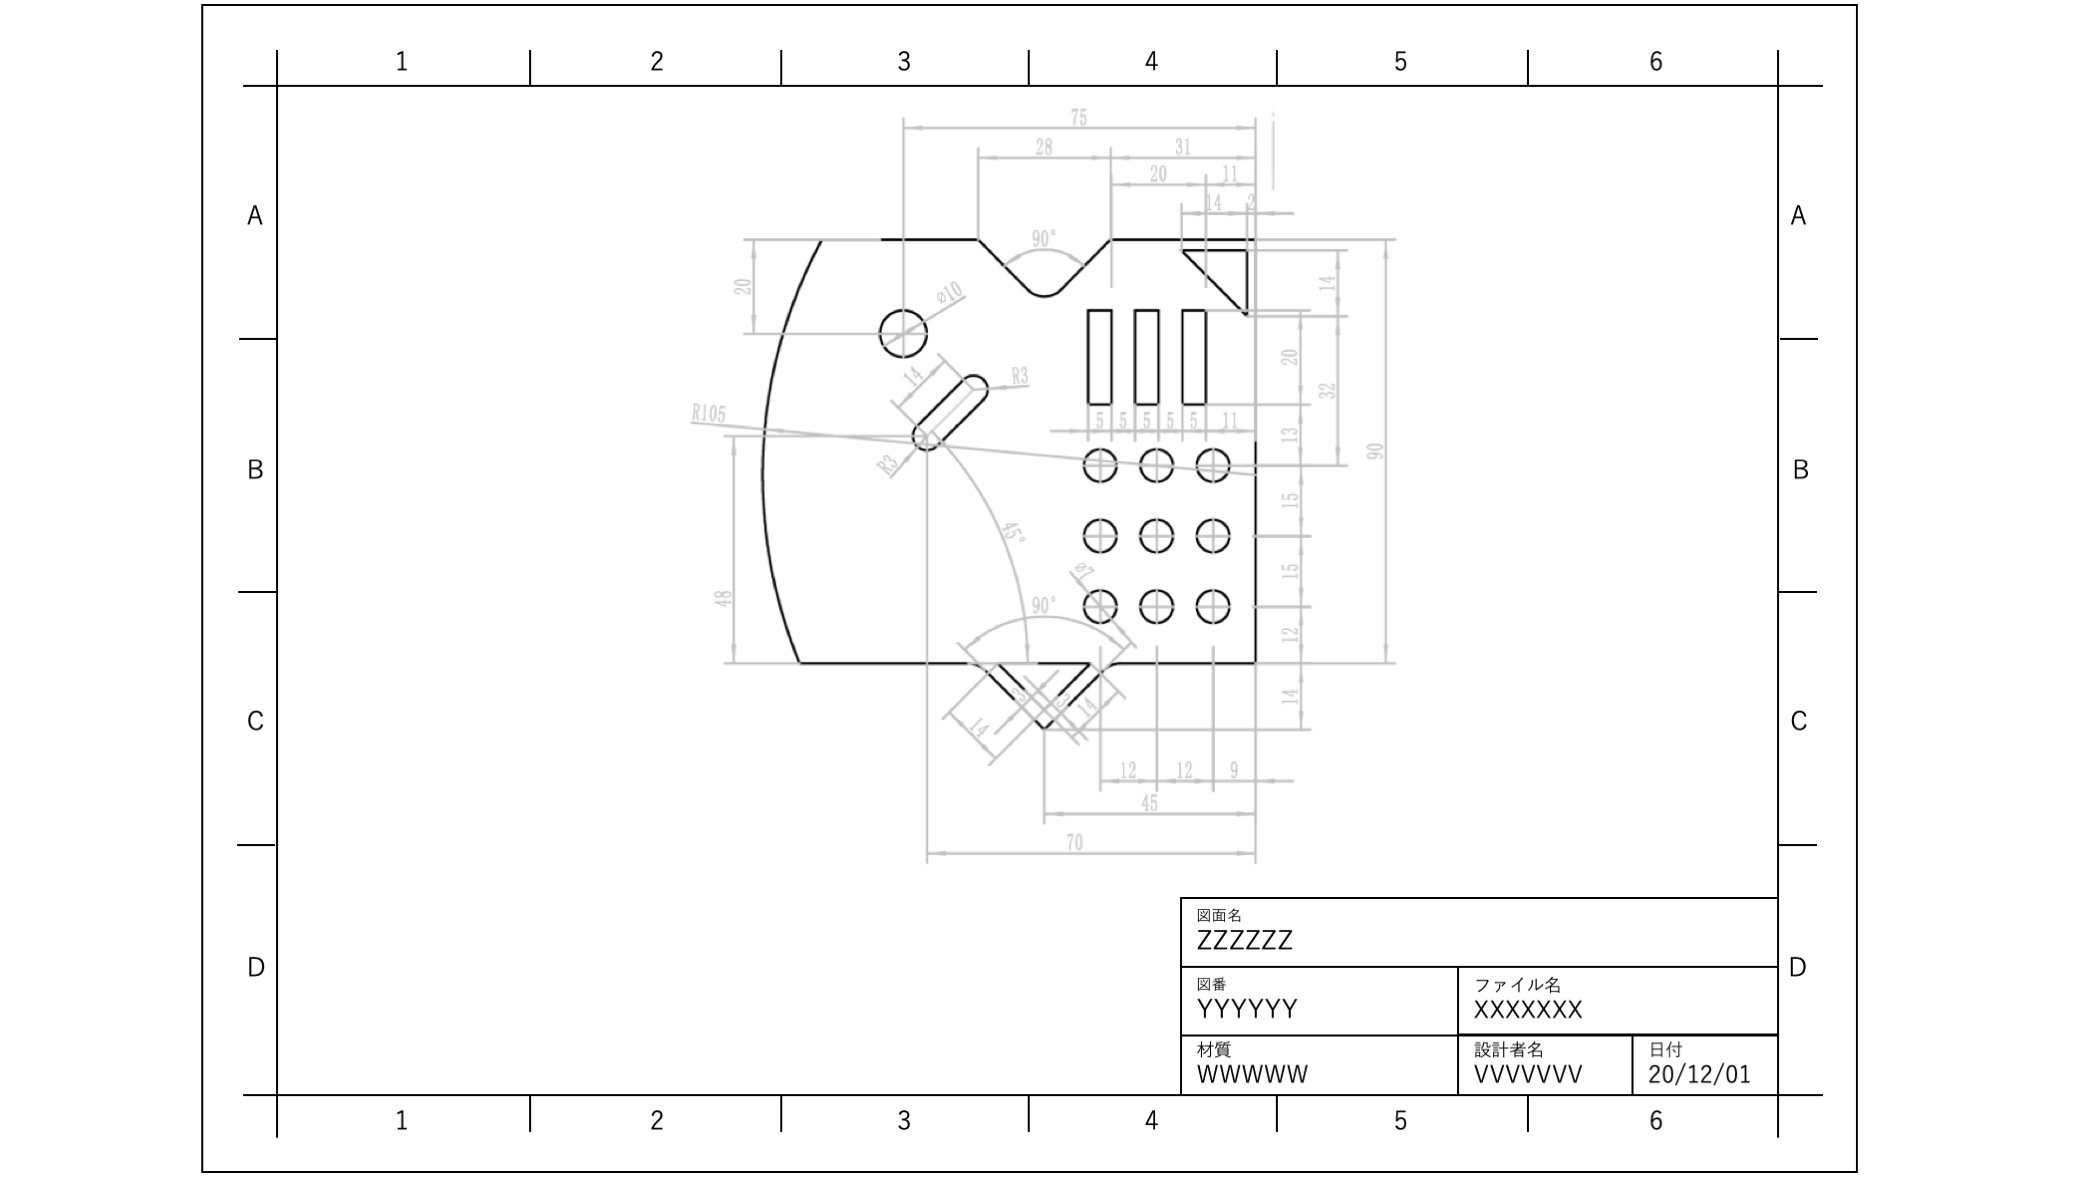circle: (875, 306, 933, 359), (1193, 509, 1236, 558), (1194, 577, 1235, 629), (1075, 443, 1121, 487), (1077, 513, 1122, 558), (1132, 443, 1175, 487), (1137, 581, 1178, 627), (1190, 443, 1235, 485), (1076, 577, 1118, 622), (1139, 513, 1178, 557)
rectangle: (1125, 294, 1162, 417), (1171, 301, 1213, 407), (1080, 301, 1115, 420)
round_rectangle: (904, 361, 995, 457)
triangle: (987, 650, 1092, 730), (1175, 232, 1253, 319)
